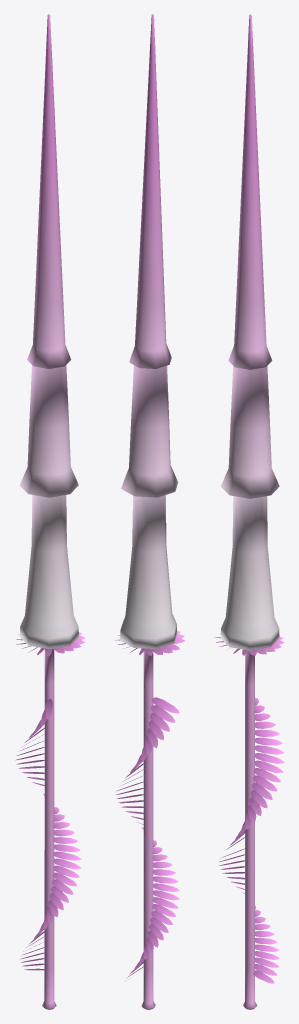
Rendered from lance 2.fbx.
3 renders of one model, left to right at view 1: azimuth 90°, elevation 25°; view 2: azimuth 150°, elevation 25°; view 3: azimuth 270°, elevation 25°, orthographic.
Parts seen in each view (by area): view 1: Lance, feather.004, feather; view 2: Lance, feather.004, feather; view 3: Lance, feather.004, feather.
Boxes of the visible parts, x1,y1,x2,y2 form: Lance: [19, 14, 78, 1009]; feather.004: [15, 698, 81, 970]; feather: [16, 632, 85, 656]; Lance: [120, 14, 178, 1009]; feather.004: [115, 697, 179, 981]; feather: [115, 631, 184, 655]; Lance: [220, 14, 279, 1009]; feather.004: [219, 698, 284, 983]; feather: [214, 633, 284, 655].
Size of the model in its own units: 29.36 by 455 by 29.45.
